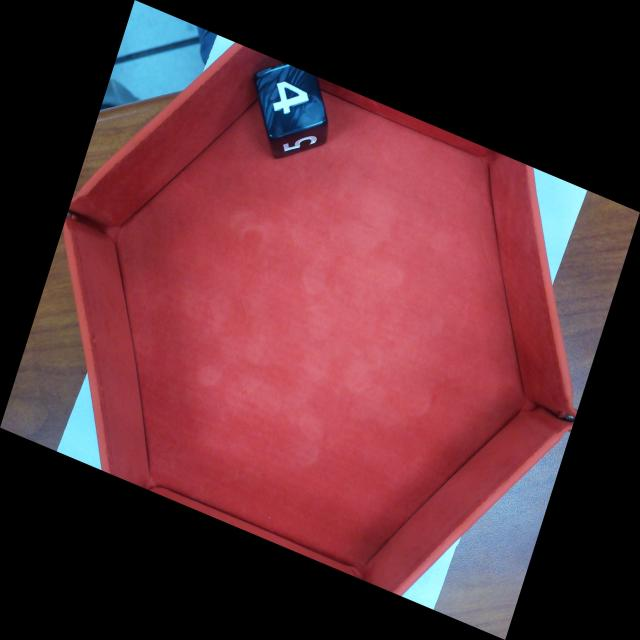dice: (255, 63, 328, 139)
